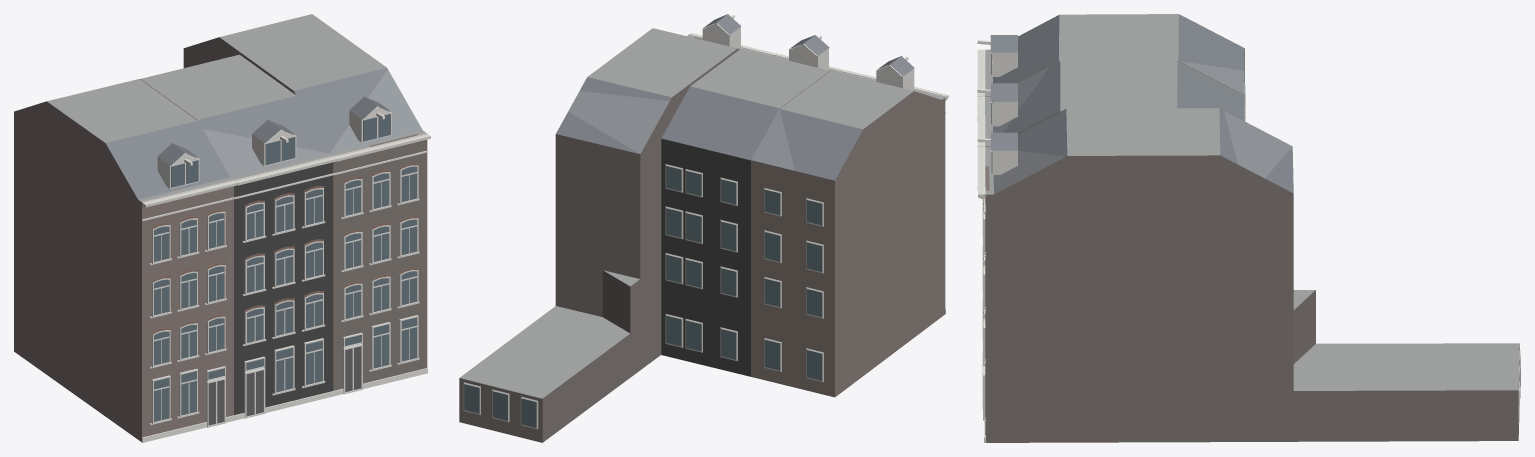
Rendered from chunk-face-steen-84-140-r2.glb.
The picture shows the model from 3 angles, left to right: view 1: azimuth 30°, elevation 25°; view 2: azimuth 150°, elevation 25°; view 3: azimuth 270°, elevation 25°; orthographic projection. The views are drawn at different scales.
Parts seen in each view (by area): view 1: face-steen-84-140-r2; view 2: face-steen-84-140-r2; view 3: face-steen-84-140-r2.
Boxes of the visible parts, x1,y1,x2,y2 form: face-steen-84-140-r2: (14,14,430,442); face-steen-84-140-r2: (459,14,948,442); face-steen-84-140-r2: (977,14,1520,442).
Bounding box in the file's own units: 17.95 × 16.49 × 28.28.
